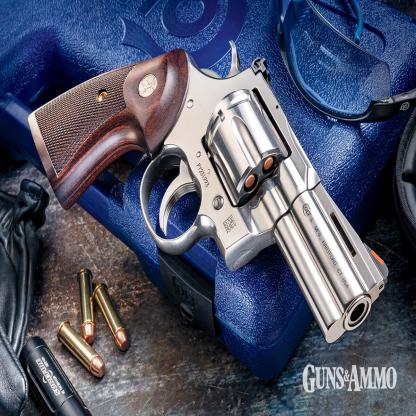handgun: (24, 37, 399, 350)
